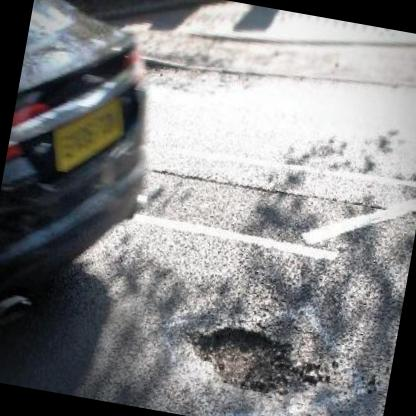pothole: (177, 316, 320, 404), (140, 56, 180, 78)
